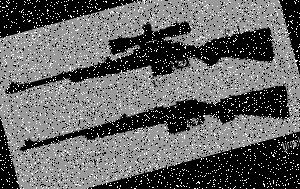rifle: (0, 0, 287, 126), (18, 61, 300, 189)
sniper: (2, 0, 280, 127), (22, 64, 300, 189)
